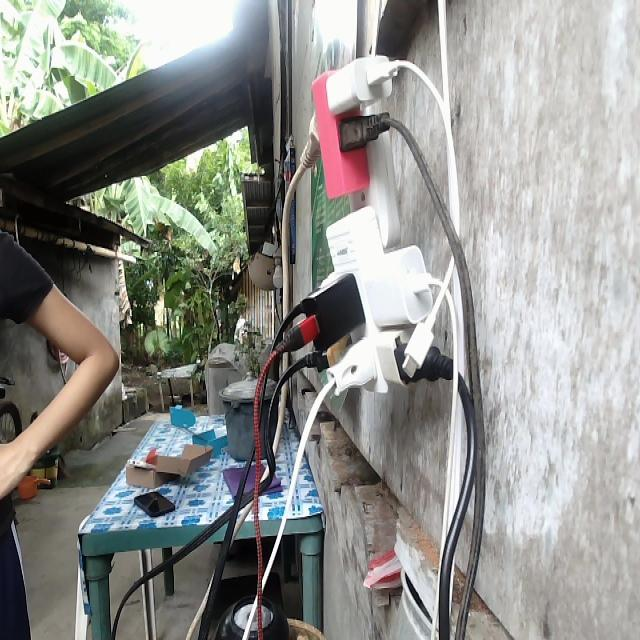-: (270, 51, 459, 401)
